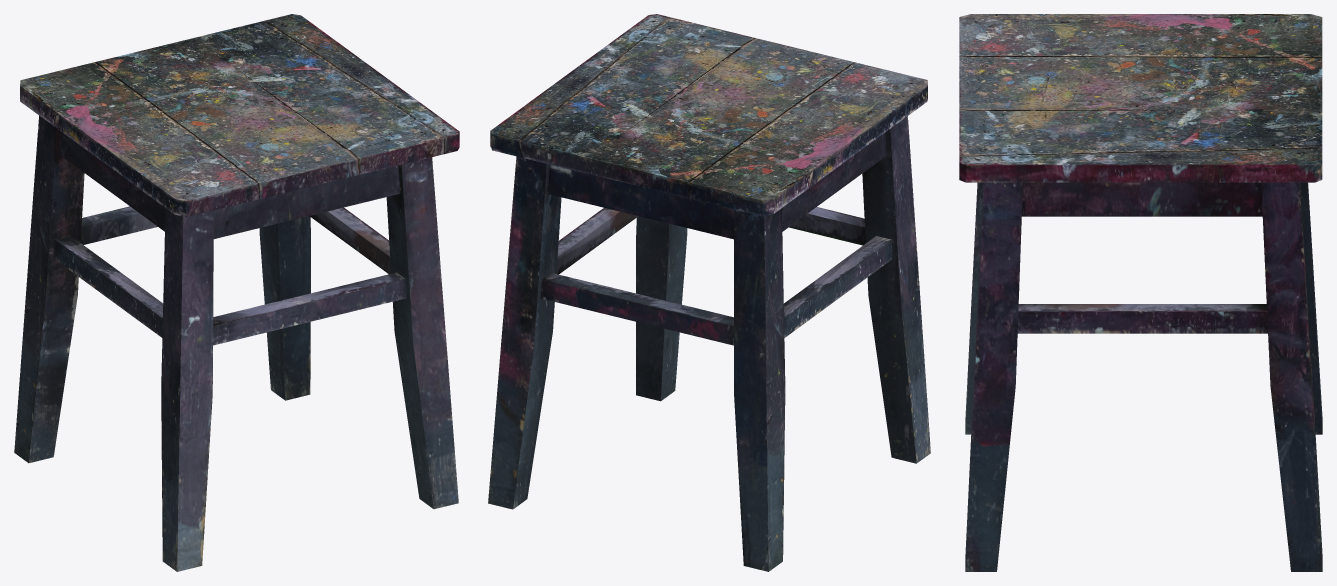
Rendered from Stool01.FBX.
The picture shows the model from 3 angles, left to right: view 1: azimuth 30°, elevation 25°; view 2: azimuth 150°, elevation 25°; view 3: azimuth 270°, elevation 25°; orthographic projection. The views are drawn at different scales.
Parts seen in each view (by area): view 1: Stool01; view 2: Stool01; view 3: Stool01.
Part boxes in pixels (<box>): Stool01: <box>14,14,459,571</box>; Stool01: <box>488,14,930,571</box>; Stool01: <box>959,14,1322,571</box>.
Size of the model in its own units: 32.36 by 40.54 by 32.8.
